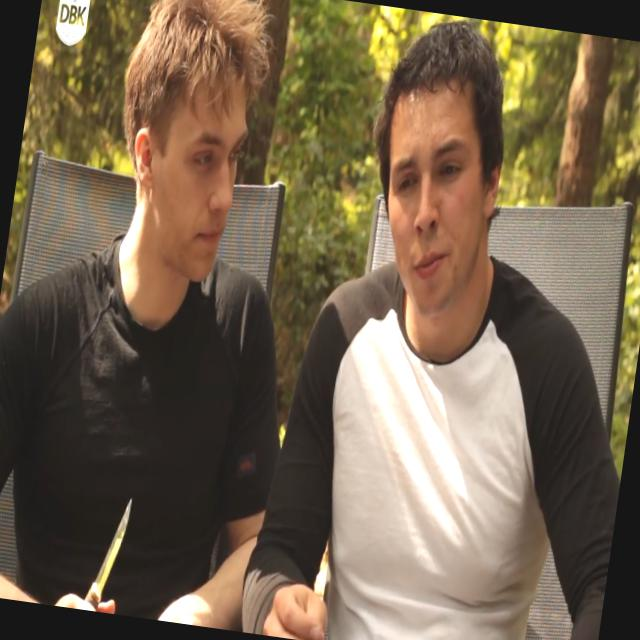knife: (54, 469, 150, 616)
